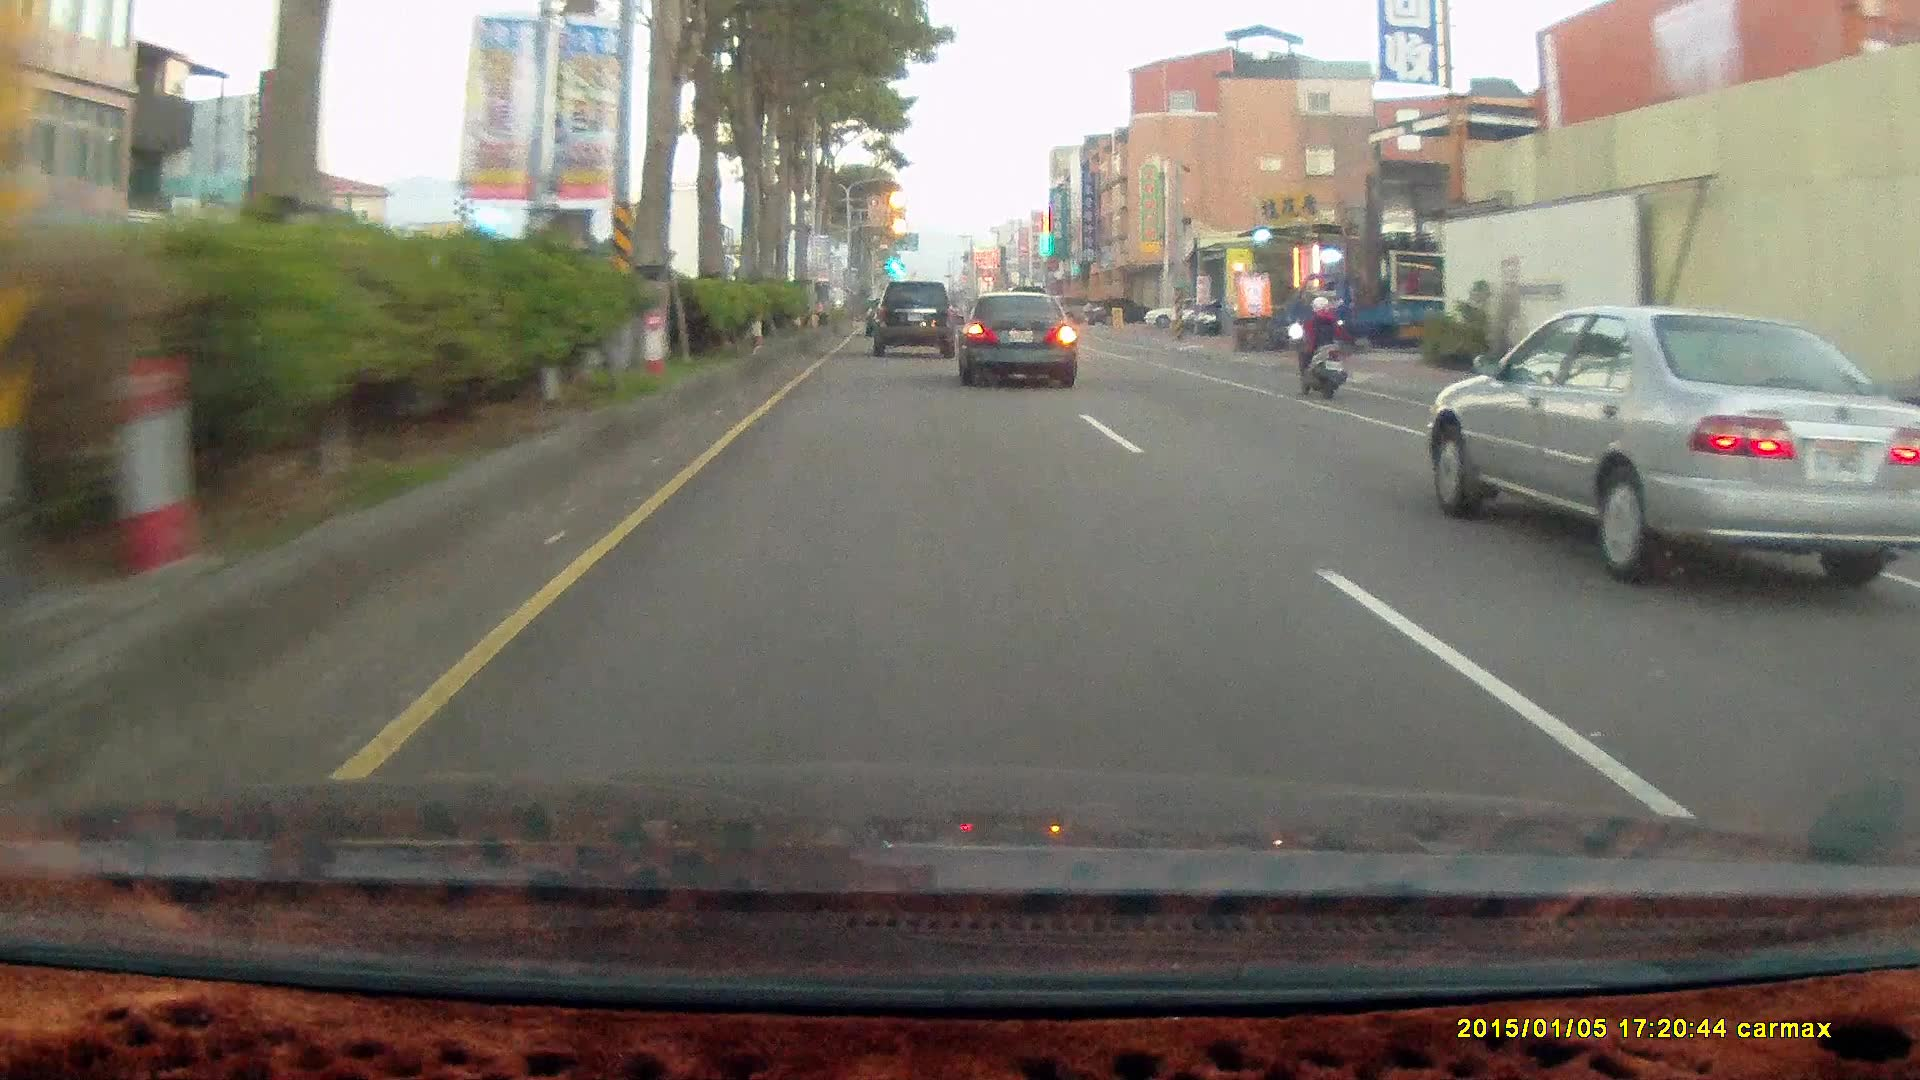rider: (1283, 286, 1358, 410), (1291, 289, 1348, 397)
vehicle: (1429, 305, 1920, 585), (1428, 304, 1914, 578), (1285, 268, 1499, 358), (1290, 269, 1450, 350), (951, 286, 1077, 385), (963, 295, 1087, 388), (872, 281, 957, 354), (874, 282, 959, 354), (1143, 296, 1209, 326), (1087, 295, 1152, 321)
